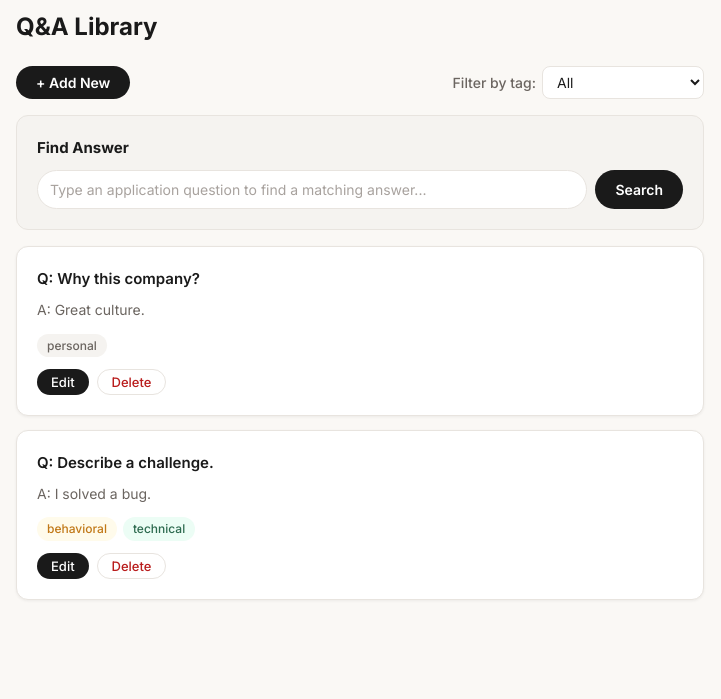
Test case: QALibrary › shows match result when a match is found
Check: the text "Q: Why this company?" is shown, box [37,269,200,288]
Type "Why this company?" into the field with placeholder "Type an application question to find a matching answer..." at (312, 190), box [37,170,588,209]
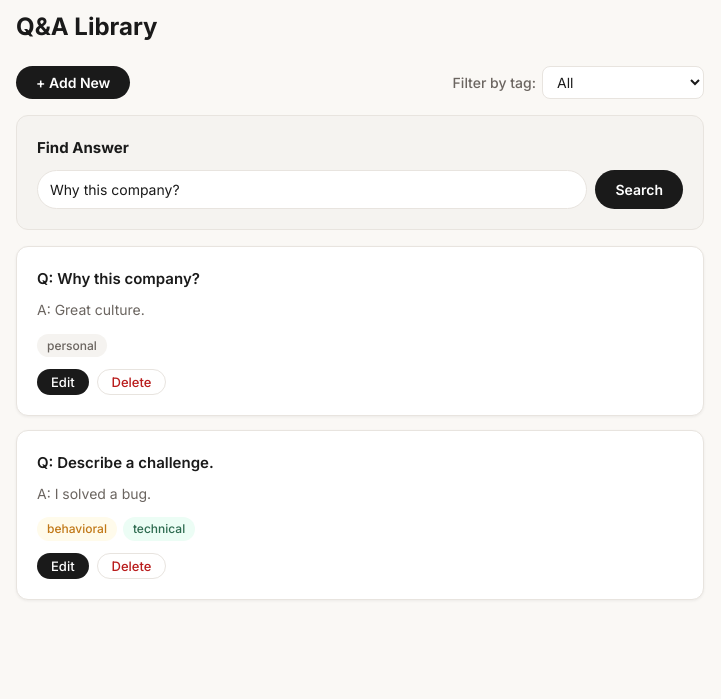
Click the button "Search" at (639, 190), box [596,170,683,209]
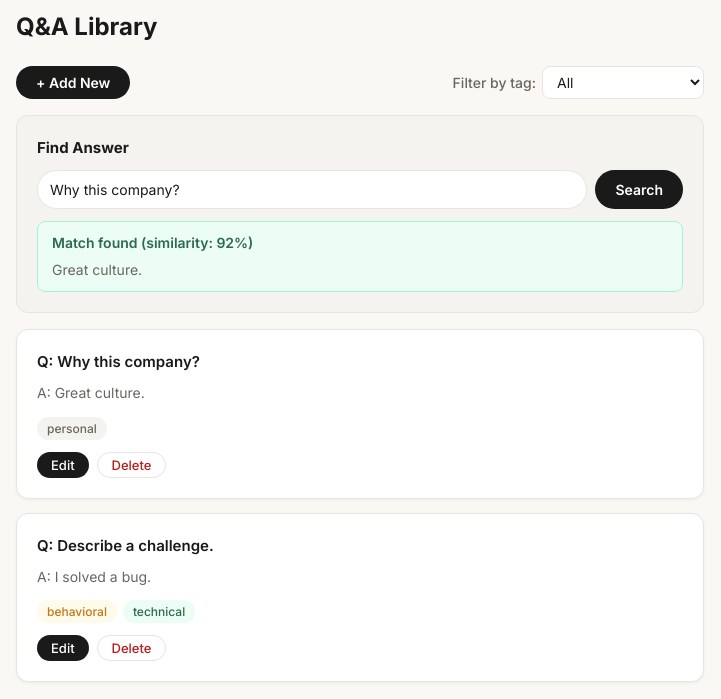
Check: the text "Match found (similarity: 92%)" is shown, box [52,234,253,251]
